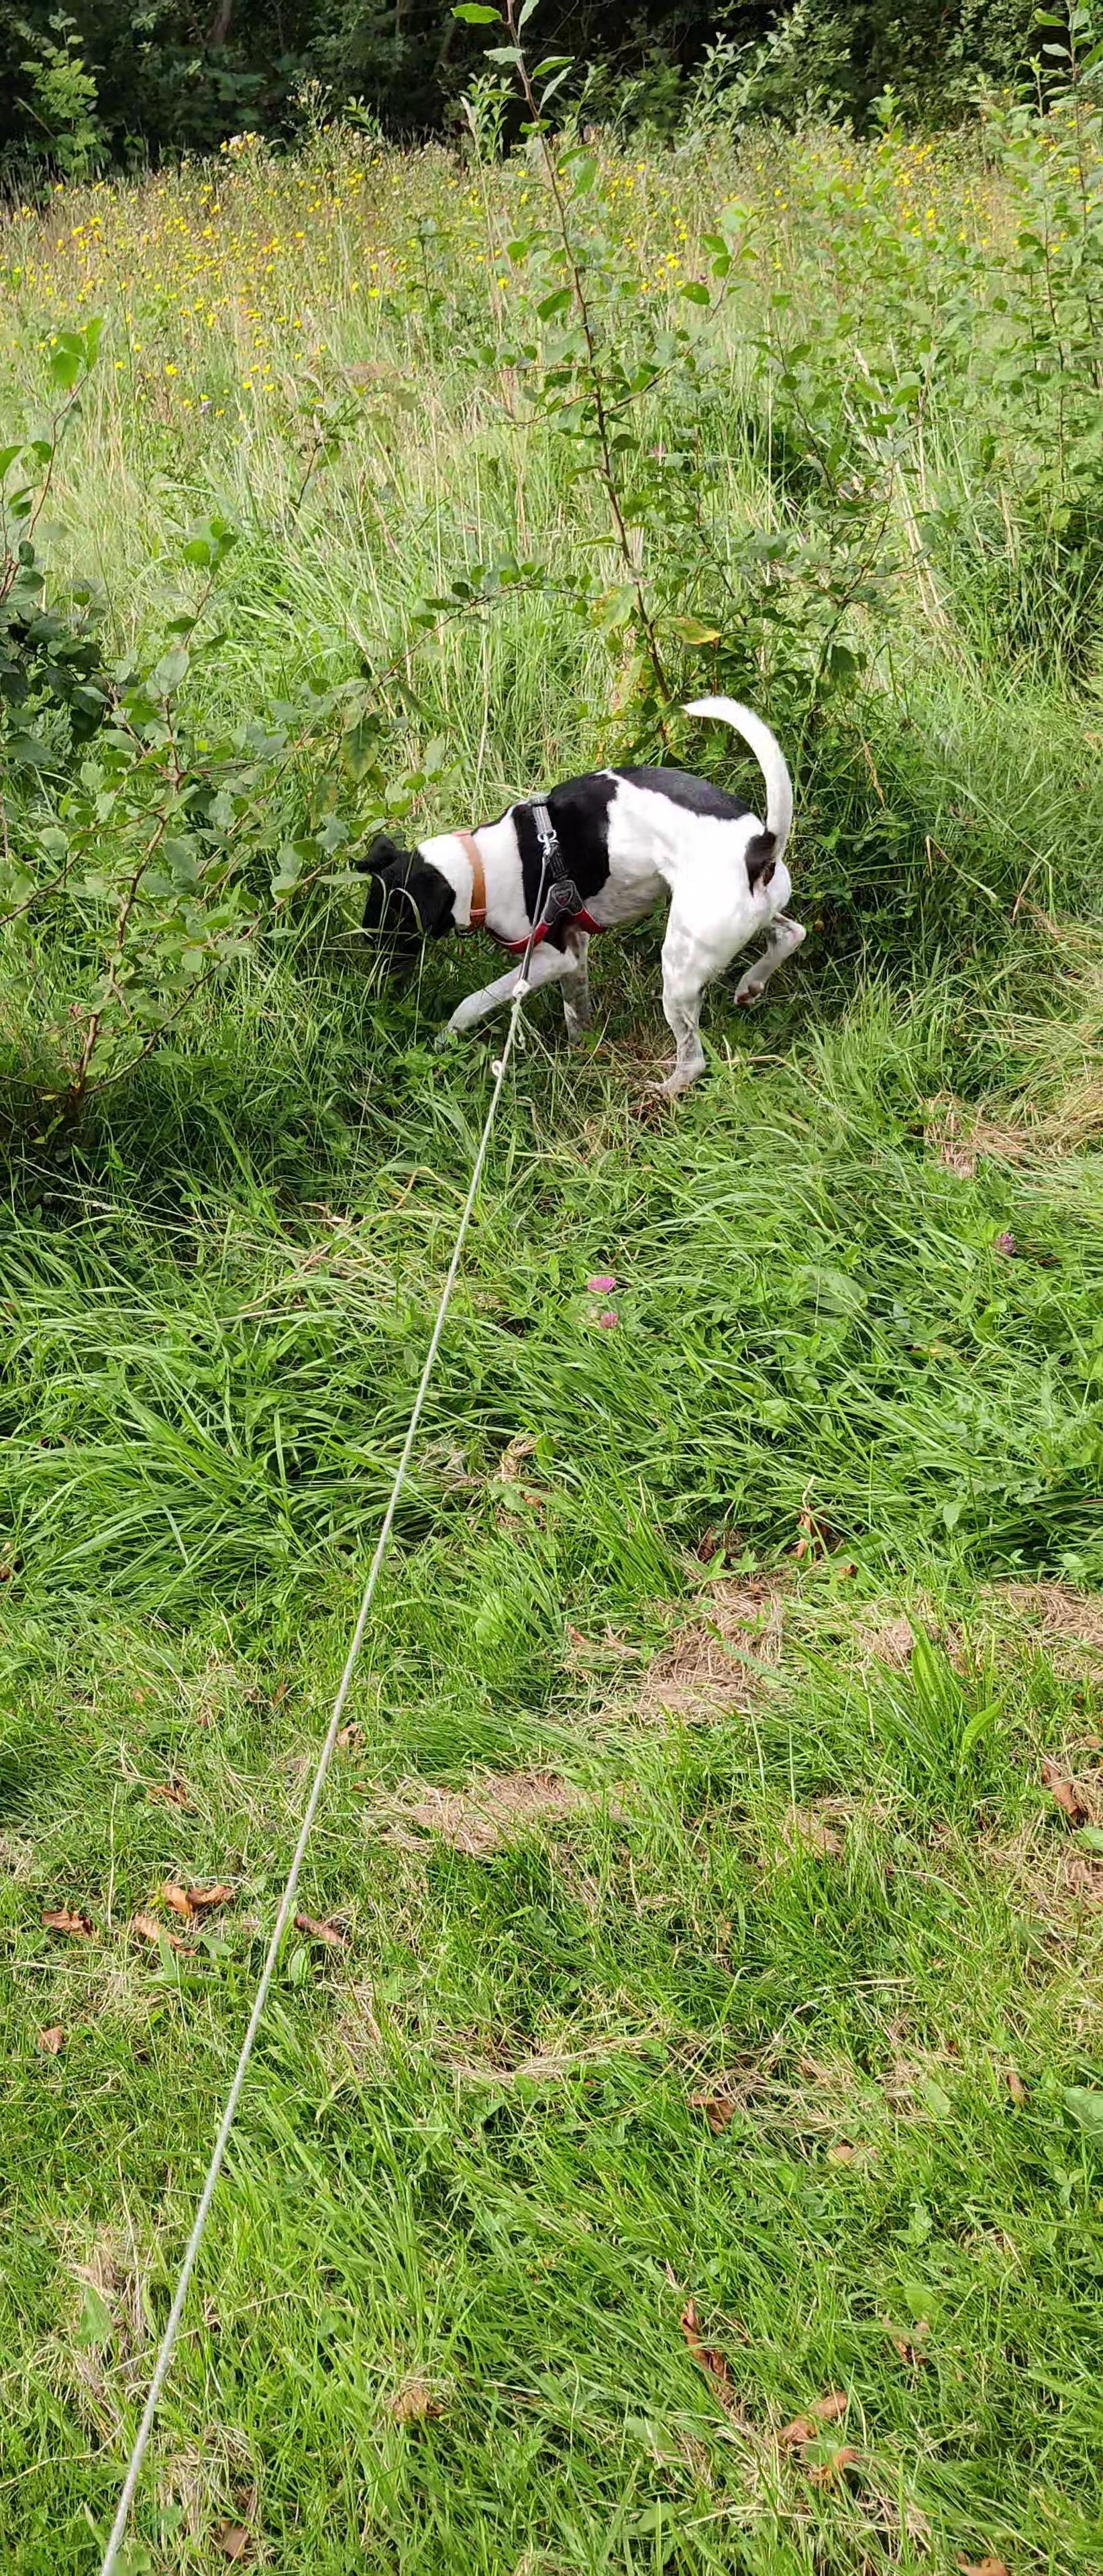Dog: (329, 659, 820, 1140)
